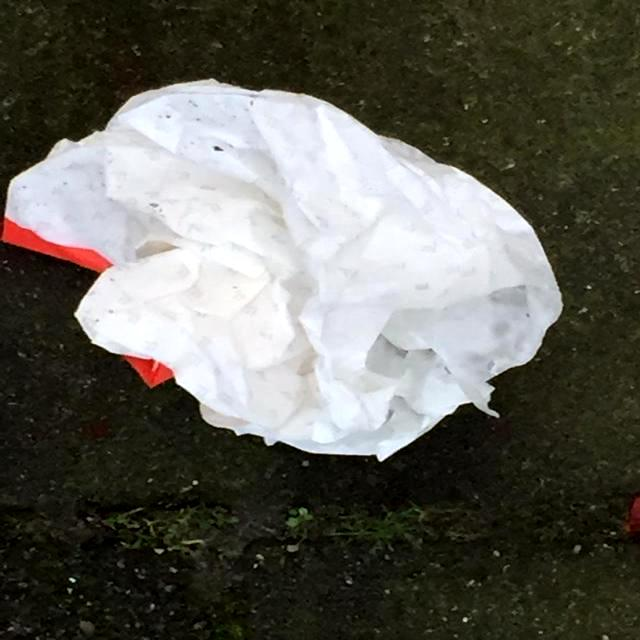Paper: (0, 76, 564, 464)
